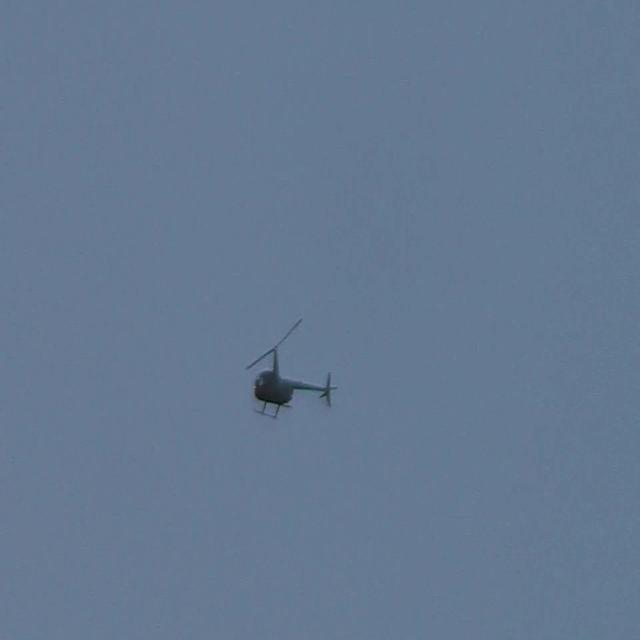CIV_HELO: (253, 344, 337, 421)
